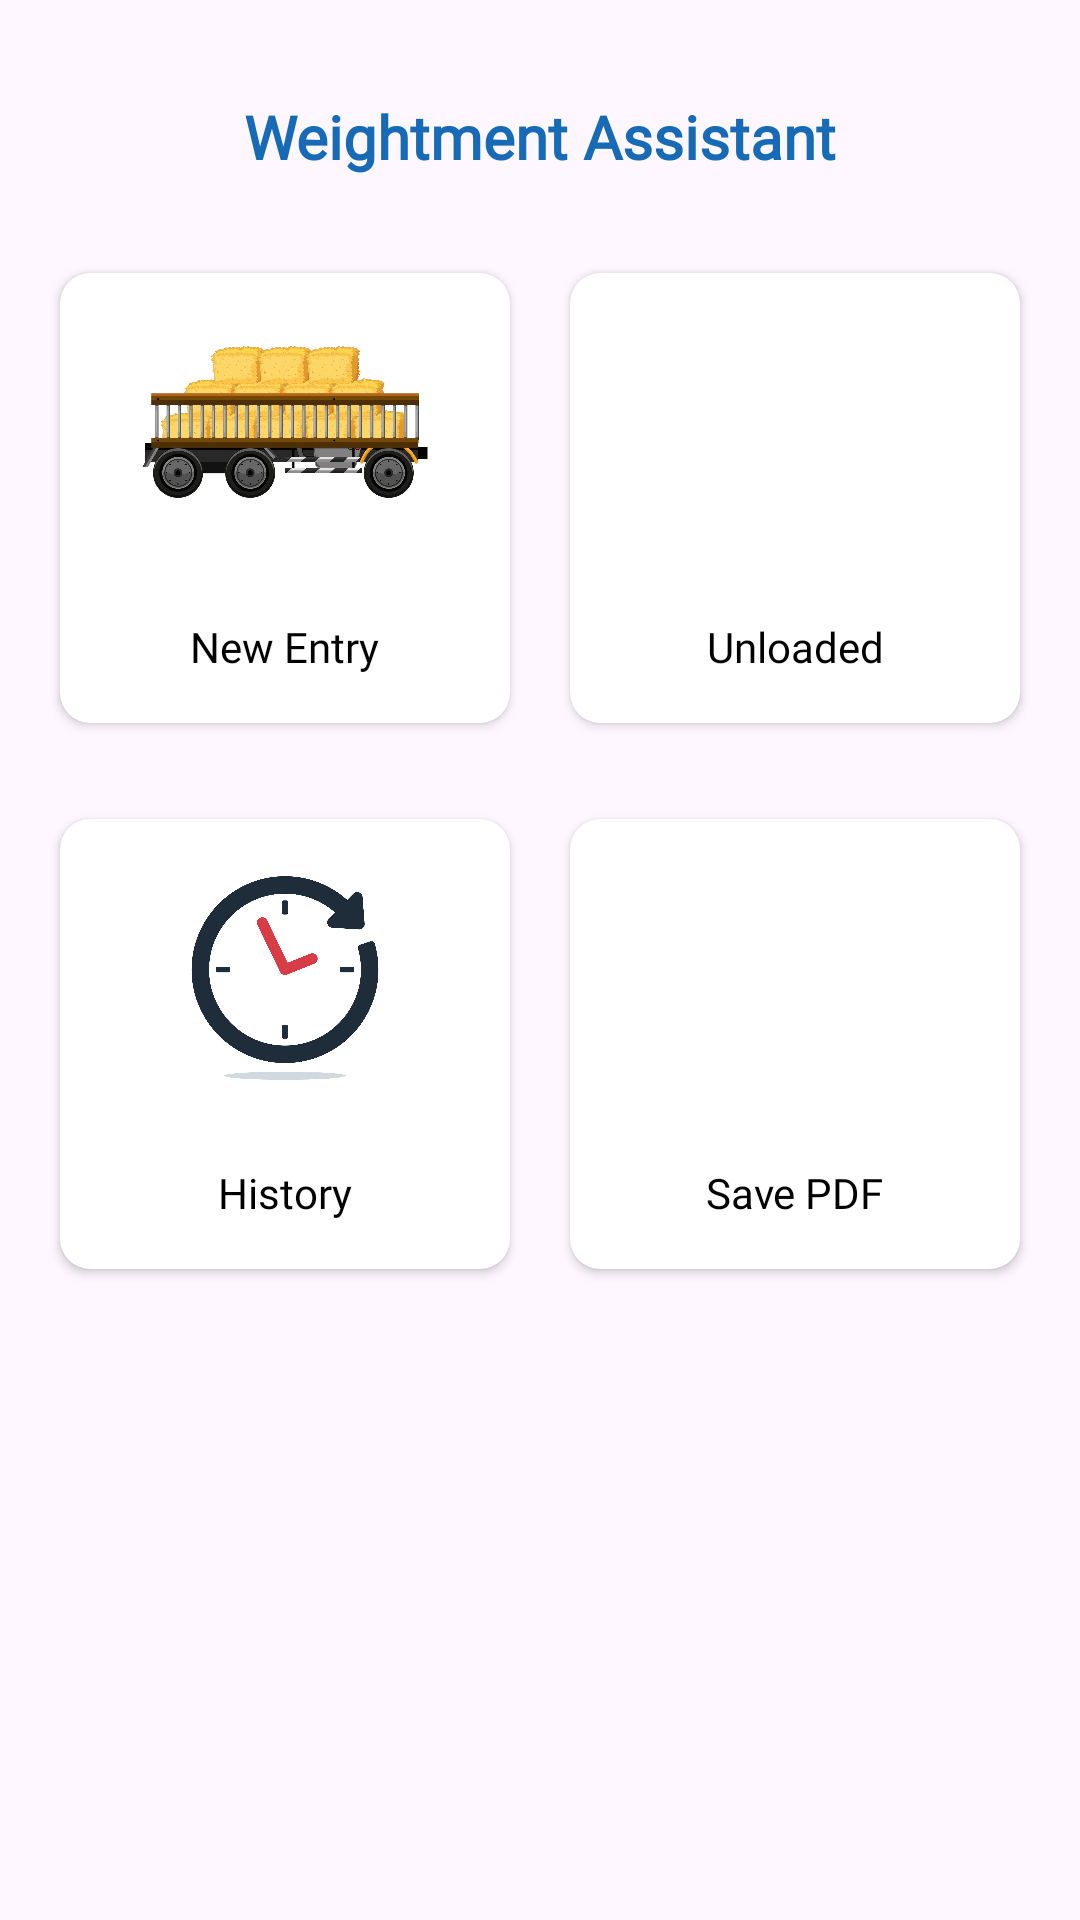

Screen size 1080×1920. Icon name, then its center in pixels as point (x, y):
loaded truck: point (285, 422)
